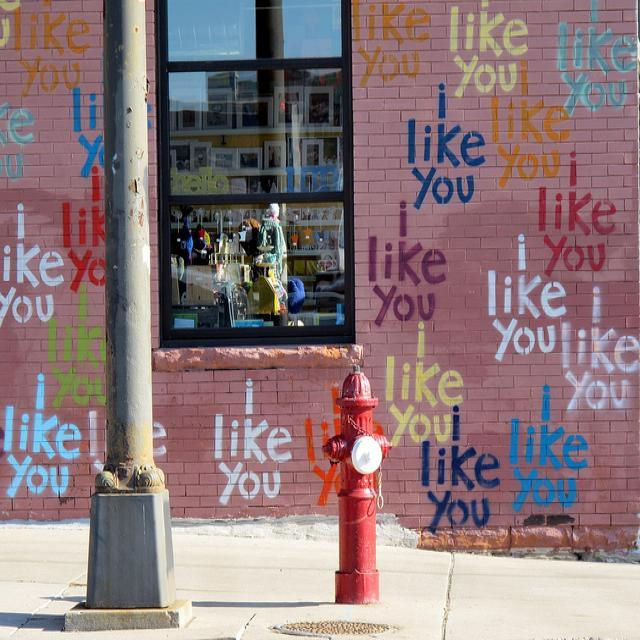fire_hydrant: (322, 362, 394, 608)
